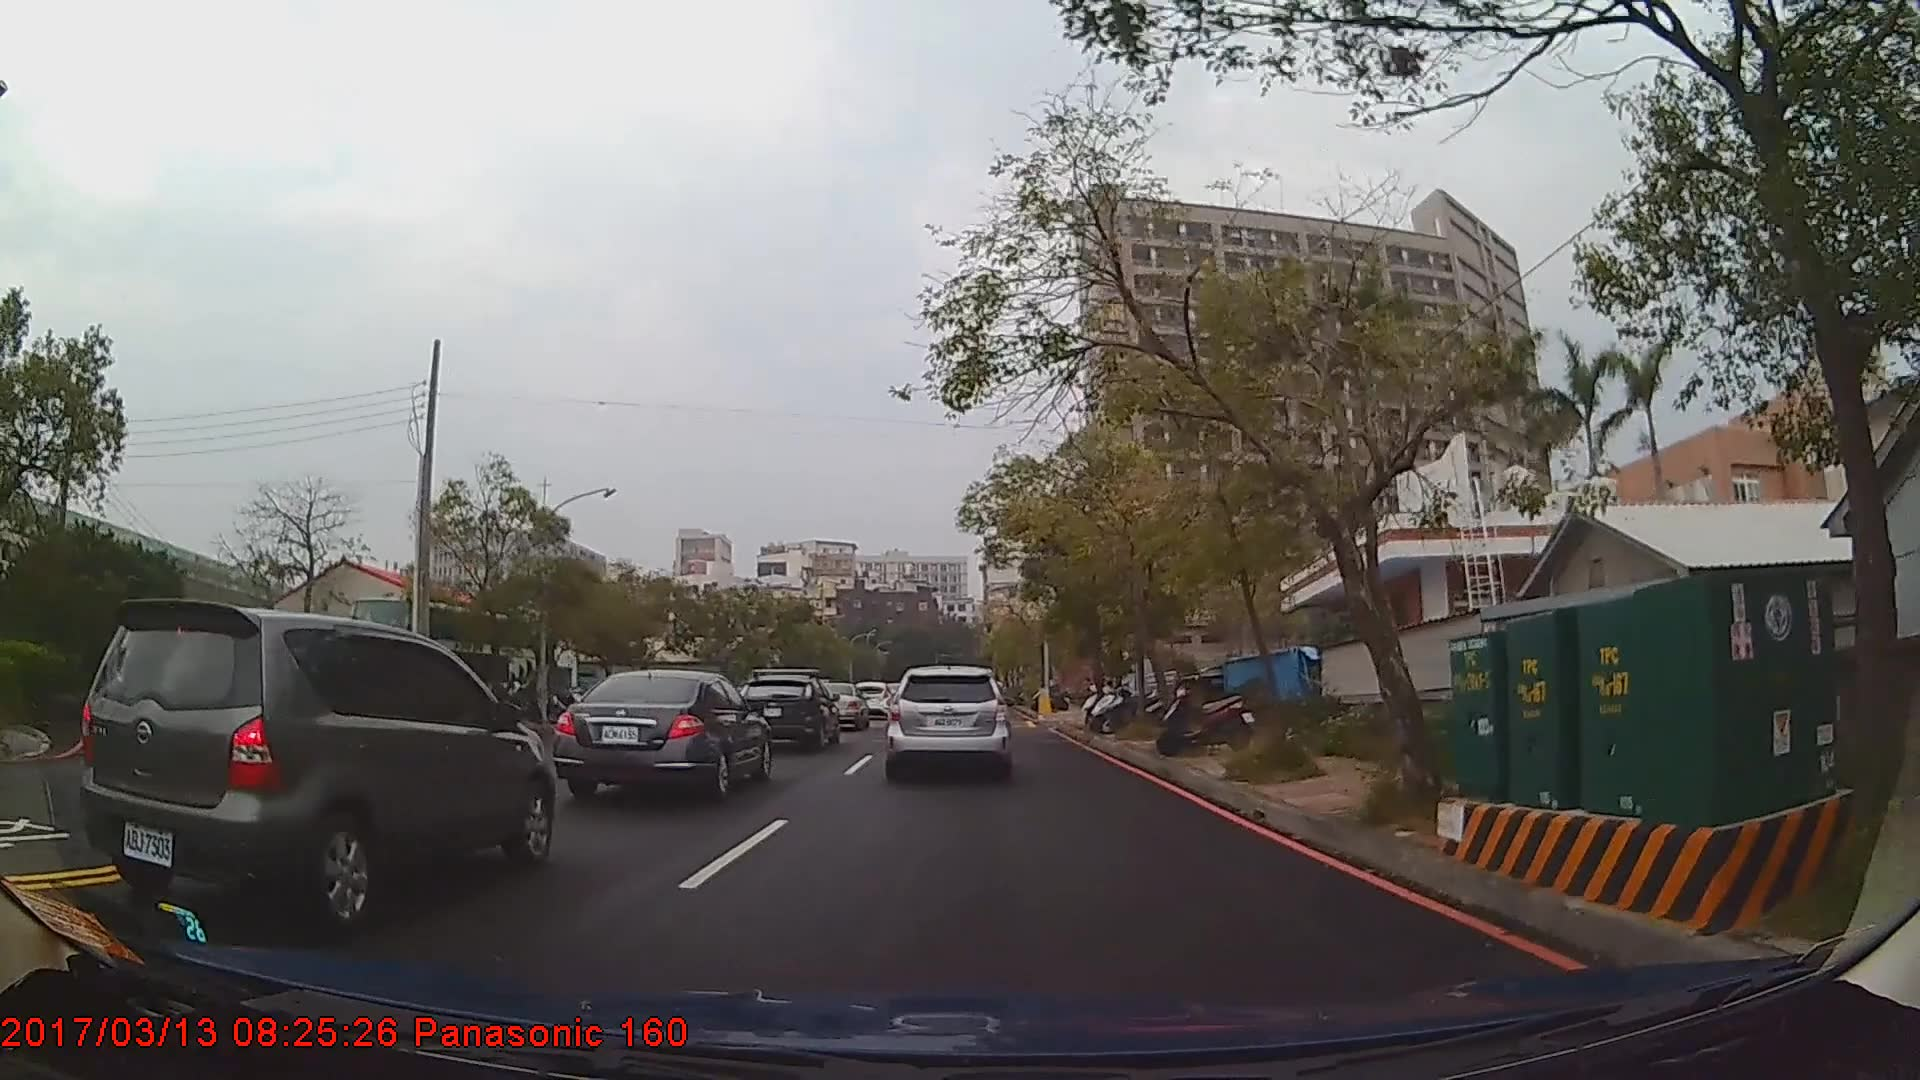vehicle: (75, 593, 555, 938), (553, 669, 773, 804), (344, 597, 539, 713), (884, 666, 1011, 781), (735, 671, 840, 752), (814, 680, 868, 731), (848, 678, 894, 717)
